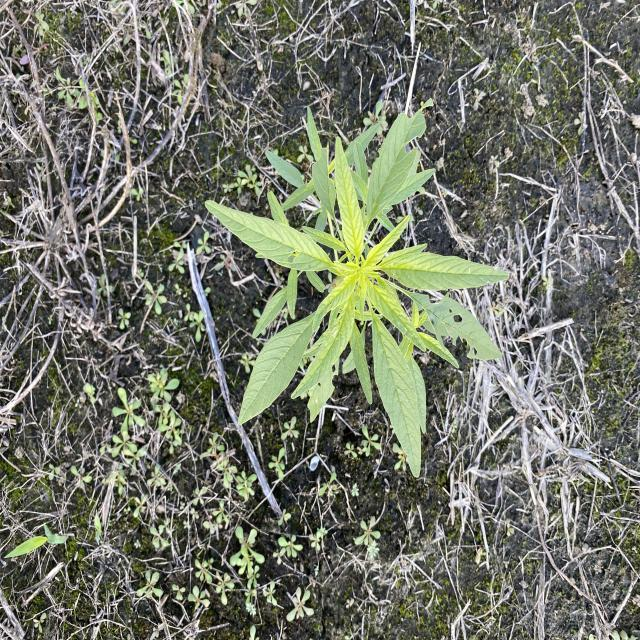Carpetweed: (99, 383, 149, 472), (199, 431, 258, 501), (228, 520, 266, 614), (146, 368, 186, 455), (188, 484, 229, 540), (53, 68, 103, 113), (219, 163, 264, 203), (283, 586, 317, 624), (362, 96, 391, 140), (352, 513, 382, 553), (272, 531, 304, 567), (142, 278, 168, 319), (132, 567, 164, 600), (183, 302, 208, 342), (356, 424, 384, 459), (148, 516, 175, 552), (142, 461, 169, 493), (166, 238, 188, 276), (187, 582, 213, 613), (213, 571, 236, 606), (391, 438, 412, 476), (193, 554, 215, 589), (102, 468, 128, 497), (308, 523, 328, 556), (318, 471, 342, 498), (268, 447, 288, 479), (70, 464, 93, 490), (134, 494, 150, 520), (262, 581, 278, 606), (172, 582, 188, 606), (114, 308, 132, 328)
Waterhemp: (204, 97, 511, 480)
